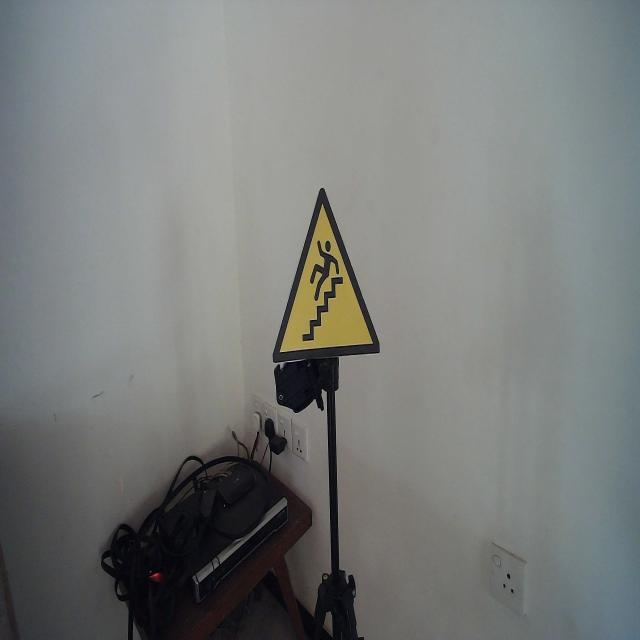stairs: (272, 185, 381, 364)
